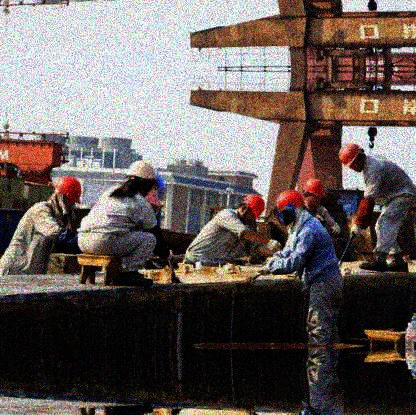helmet: (126, 158, 155, 197), (57, 175, 81, 214), (274, 190, 303, 222), (239, 193, 265, 226), (340, 144, 365, 172), (303, 177, 326, 207)
